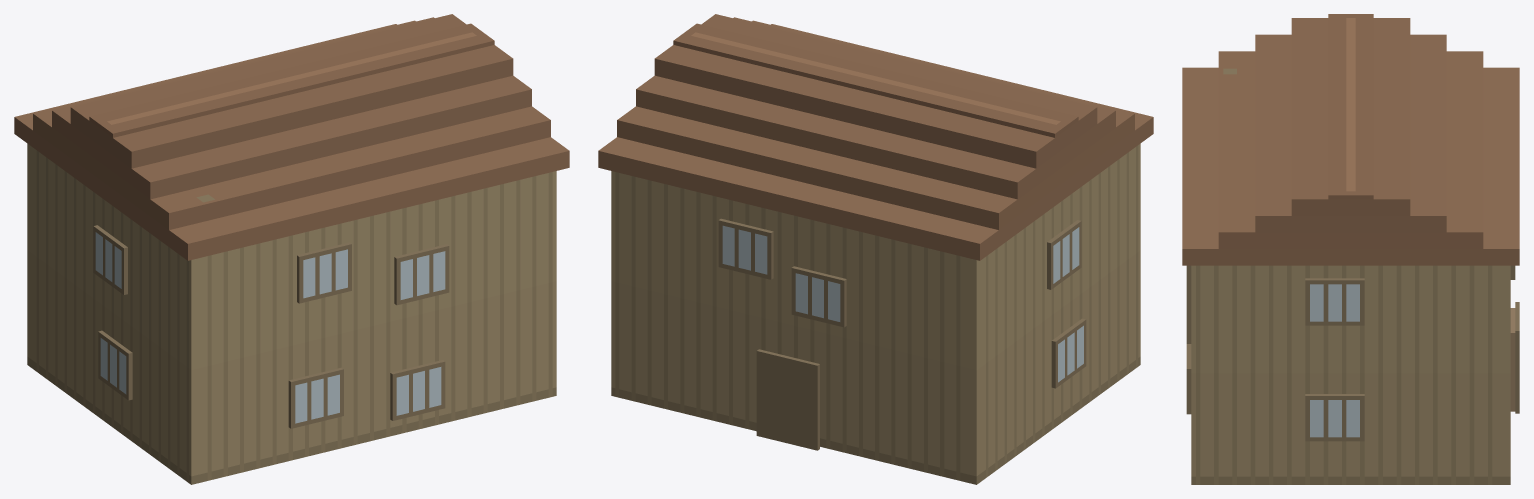
The model's file is botica_01.glb.
The picture shows the model from 3 angles, left to right: view 1: azimuth 30°, elevation 25°; view 2: azimuth 150°, elevation 25°; view 3: azimuth 270°, elevation 25°; orthographic projection. The views are drawn at different scales.
Parts seen in each view (by area): view 1: botica_01; view 2: botica_01; view 3: botica_01.
Boxes of the visible parts, x1,y1,x2,y2 form: botica_01: (14, 14, 569, 484); botica_01: (598, 14, 1153, 484); botica_01: (1182, 14, 1519, 484).
Size of the model in its own units: 9.4 by 7.1 by 7.4.
